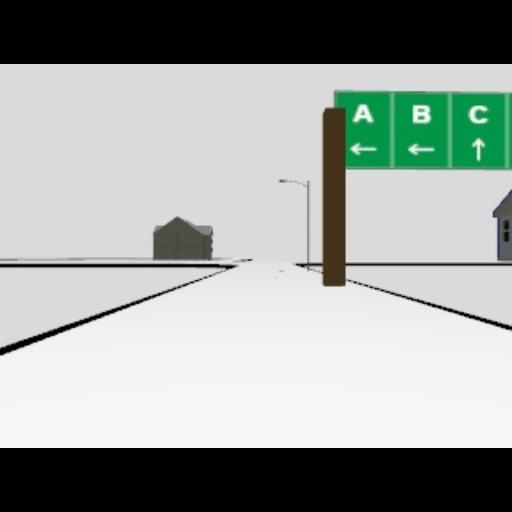A: (352, 102, 372, 124)
B: (412, 104, 430, 124)
C: (468, 104, 488, 124)
Left: (347, 142, 377, 156), (405, 142, 435, 156)
Straight: (471, 138, 485, 160)
